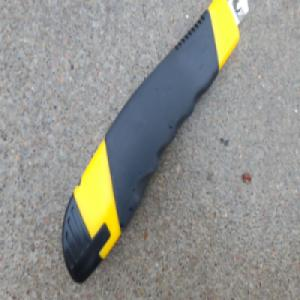Cutter: (60, 0, 249, 285)
